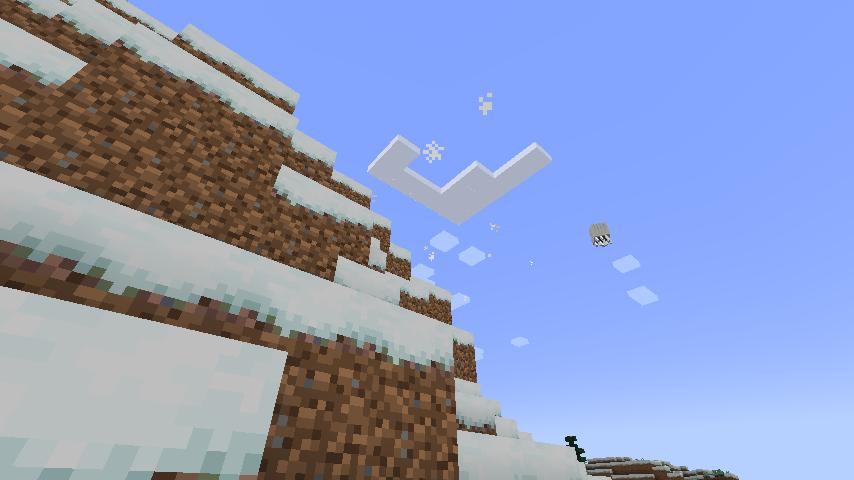ghast: (588, 219, 615, 250)
